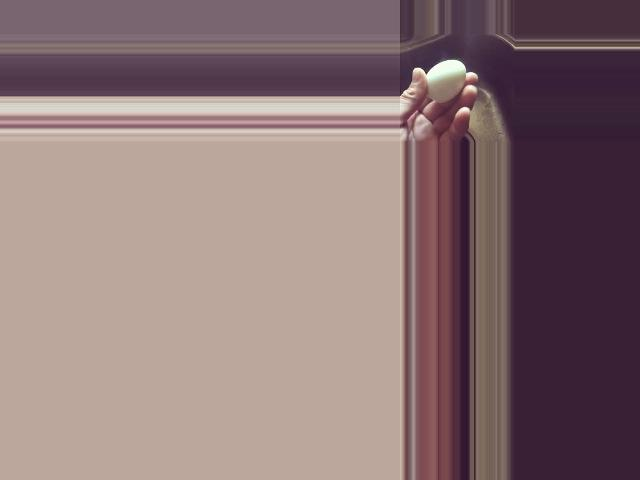egg: (425, 60, 465, 102)
